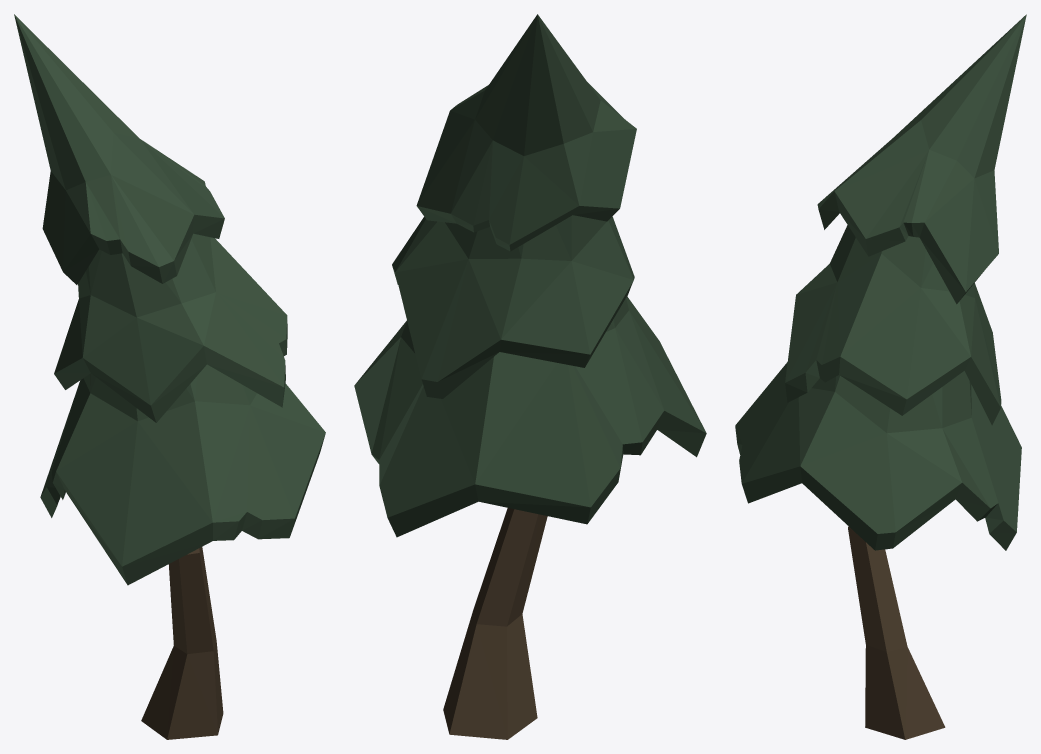
File: pine_b.glb
The picture shows the model from 3 angles, left to right: view 1: azimuth 30°, elevation 25°; view 2: azimuth 150°, elevation 25°; view 3: azimuth 270°, elevation 25°; orthographic projection. The views are drawn at different scales.
Parts seen in each view (by area): view 1: SM_Env_TreePine_02; view 2: SM_Env_TreePine_02; view 3: SM_Env_TreePine_02.
Part boxes in pixels (x1,y1,x2,y2): SM_Env_TreePine_02: [14, 14, 325, 739]; SM_Env_TreePine_02: [354, 14, 706, 739]; SM_Env_TreePine_02: [735, 14, 1026, 739].
Bounding box in the file's own units: 224 × 564 × 226.
1 material, 1 textured.
